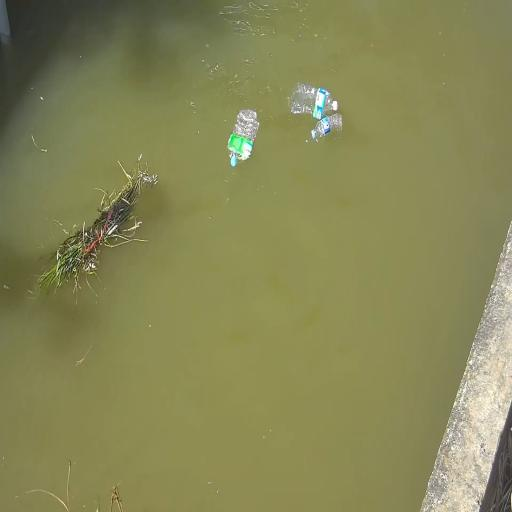plastic: (228, 110, 259, 166), (289, 83, 337, 119), (312, 114, 342, 139)
twig: (38, 156, 157, 289)
